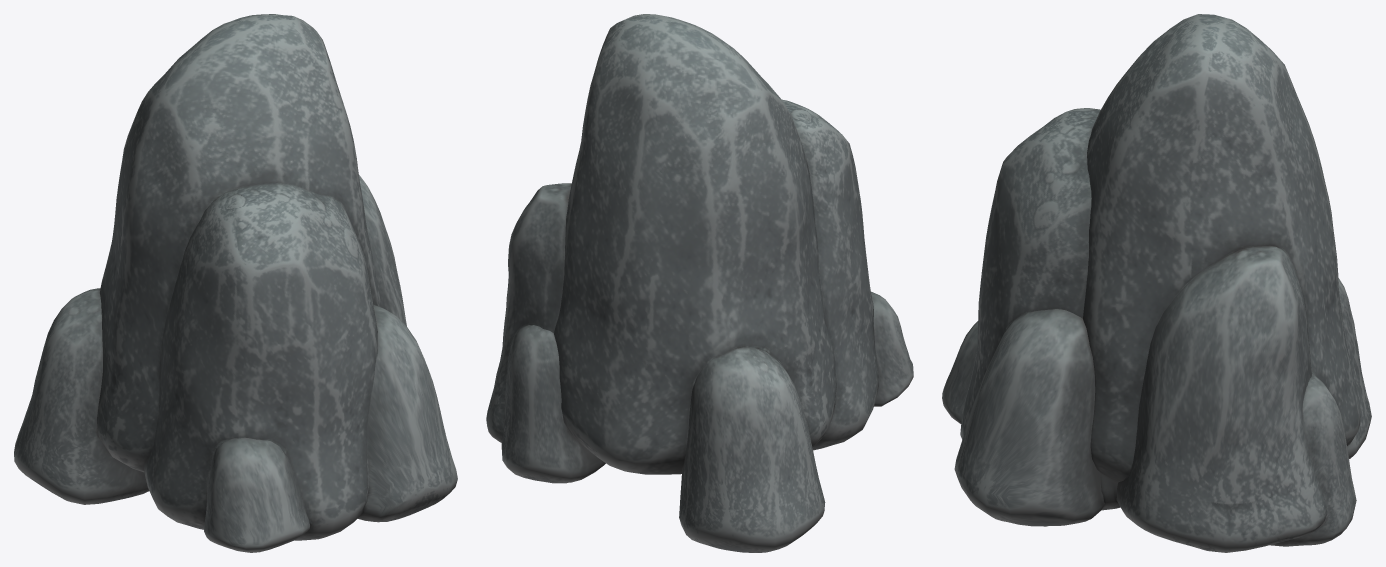
File: rock.glb
3 renders of one model, left to right at view 1: azimuth 30°, elevation 25°; view 2: azimuth 150°, elevation 25°; view 3: azimuth 270°, elevation 25°, orthographic. The views are drawn at different scales.
Parts seen in each view (by area): view 1: Low; view 2: Low; view 3: Low.
Part boxes in pixels (x1,y1,x2,y2): Low: (14, 14, 457, 552); Low: (486, 14, 913, 552); Low: (942, 14, 1371, 552).
Bounding box in the file's own units: 0.3344 × 0.4372 × 0.3387.
1 material, 1 textured.
